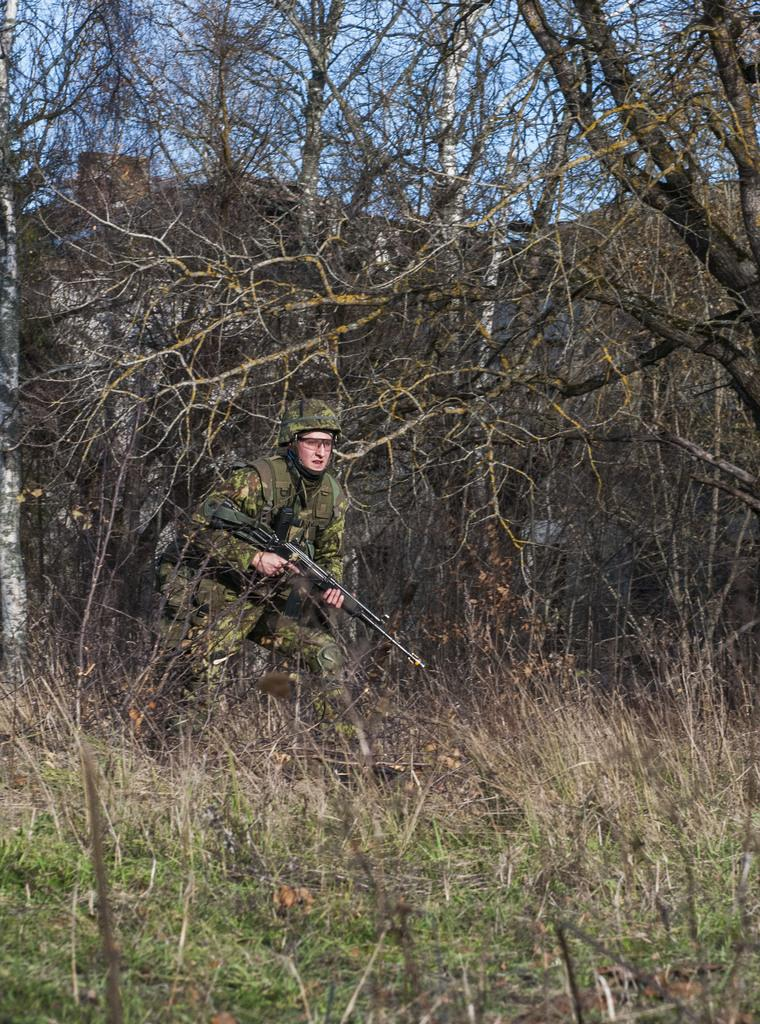Rifle: (191, 488, 426, 664)
